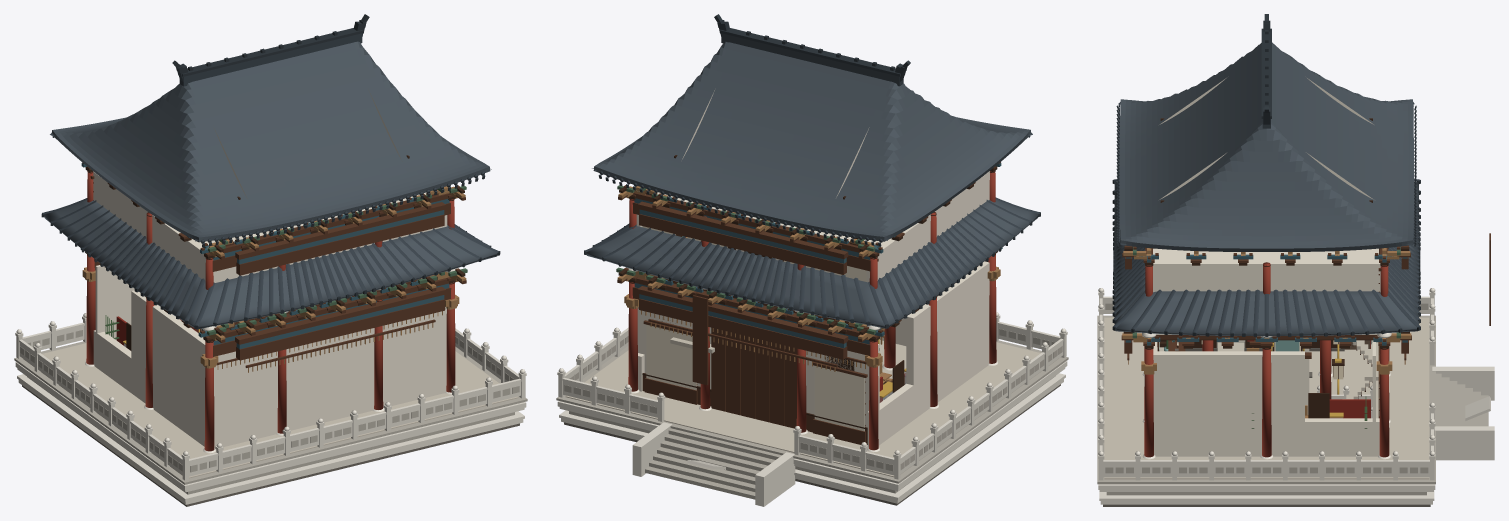
The model's file is wenmai_gallery_huazhang.glb.
3 renders of one model, left to right at view 1: azimuth 30°, elevation 25°; view 2: azimuth 150°, elevation 25°; view 3: azimuth 270°, elevation 25°, orthographic.
Visible parts, largest first — view 1: ROOF_tile, WALL_wall_plaster, RAIL_stone_white, TILE_tile_dark, BASE_stone_white, BASE_floor_stone, COLUMN_wood_column, EF_wood_beam, EF2_wood_beam, BRACKET_wood_dark, BASE_stone_grey, RAIL_stone_grey (+8 smaller); view 2: ROOF_tile, WALL_wall_plaster, TILE_tile_dark, BASE_stone_grey, BASE_stone_white, BASE_floor_stone, RAIL_stone_white, DOOR_wood_beam, COLUMN_wood_column, EF2_wood_beam, WINDOW_paper, EF_wood_beam (+14 smaller); view 3: ROOF_tile, WALL_wall_plaster, BASE_floor_stone, BASE_stone_white, TILE_tile_dark, RAIL_stone_white, BASE_stone_grey, COLUMN_wood_column, BRACKET_wood_dark, RAIL_stone_grey, COFFER_wall_plaster, ROOF_tile_edge (+7 smaller).
Part boxes in pixels (bbox=[...]): ROOF_tile: bbox=[44, 41, 497, 329]; WALL_wall_plaster: bbox=[93, 171, 447, 447]; RAIL_stone_white: bbox=[15, 313, 526, 480]; TILE_tile_dark: bbox=[43, 136, 498, 325]; BASE_stone_white: bbox=[15, 362, 526, 504]; BASE_floor_stone: bbox=[23, 343, 518, 478]; COLUMN_wood_column: bbox=[86, 171, 455, 451]; EF_wood_beam: bbox=[94, 261, 451, 360]; EF2_wood_beam: bbox=[212, 193, 450, 275]; BRACKET_wood_dark: bbox=[80, 162, 467, 342]; BASE_stone_grey: bbox=[14, 341, 527, 494]; RAIL_stone_grey: bbox=[20, 330, 519, 472]; ROOF_tile: bbox=[586, 42, 1038, 328]; WALL_wall_plaster: bbox=[636, 171, 989, 446]; TILE_tile_dark: bbox=[585, 136, 1039, 324]; BASE_stone_grey: bbox=[556, 340, 1068, 499]; BASE_stone_white: bbox=[557, 361, 1067, 506]; BASE_floor_stone: bbox=[565, 340, 1058, 477]; RAIL_stone_white: bbox=[557, 249, 1067, 479]; DOOR_wood_beam: bbox=[711, 327, 797, 428]; COLUMN_wood_column: bbox=[628, 171, 996, 450]; EF2_wood_beam: bbox=[632, 192, 870, 274]; WINDOW_paper: bbox=[642, 226, 866, 431]; EF_wood_beam: bbox=[632, 261, 988, 359]; ROOF_tile: bbox=[1114, 42, 1418, 336]; WALL_wall_plaster: bbox=[1153, 248, 1380, 456]; BASE_floor_stone: bbox=[1104, 317, 1429, 479]; BASE_stone_white: bbox=[1098, 366, 1494, 504]; TILE_tile_dark: bbox=[1113, 103, 1420, 333]; RAIL_stone_white: bbox=[1098, 288, 1435, 480]; BASE_stone_grey: bbox=[1097, 315, 1488, 495]; COLUMN_wood_column: bbox=[1144, 262, 1389, 457]; BRACKET_wood_dark: bbox=[1121, 246, 1411, 348]; RAIL_stone_grey: bbox=[1105, 303, 1428, 473]; COFFER_wall_plaster: bbox=[1157, 248, 1378, 260]; ROOF_tile_edge: bbox=[1261, 14, 1271, 124].
Bounding box in the file's own units: 17.08 × 17.61 × 17.21.
